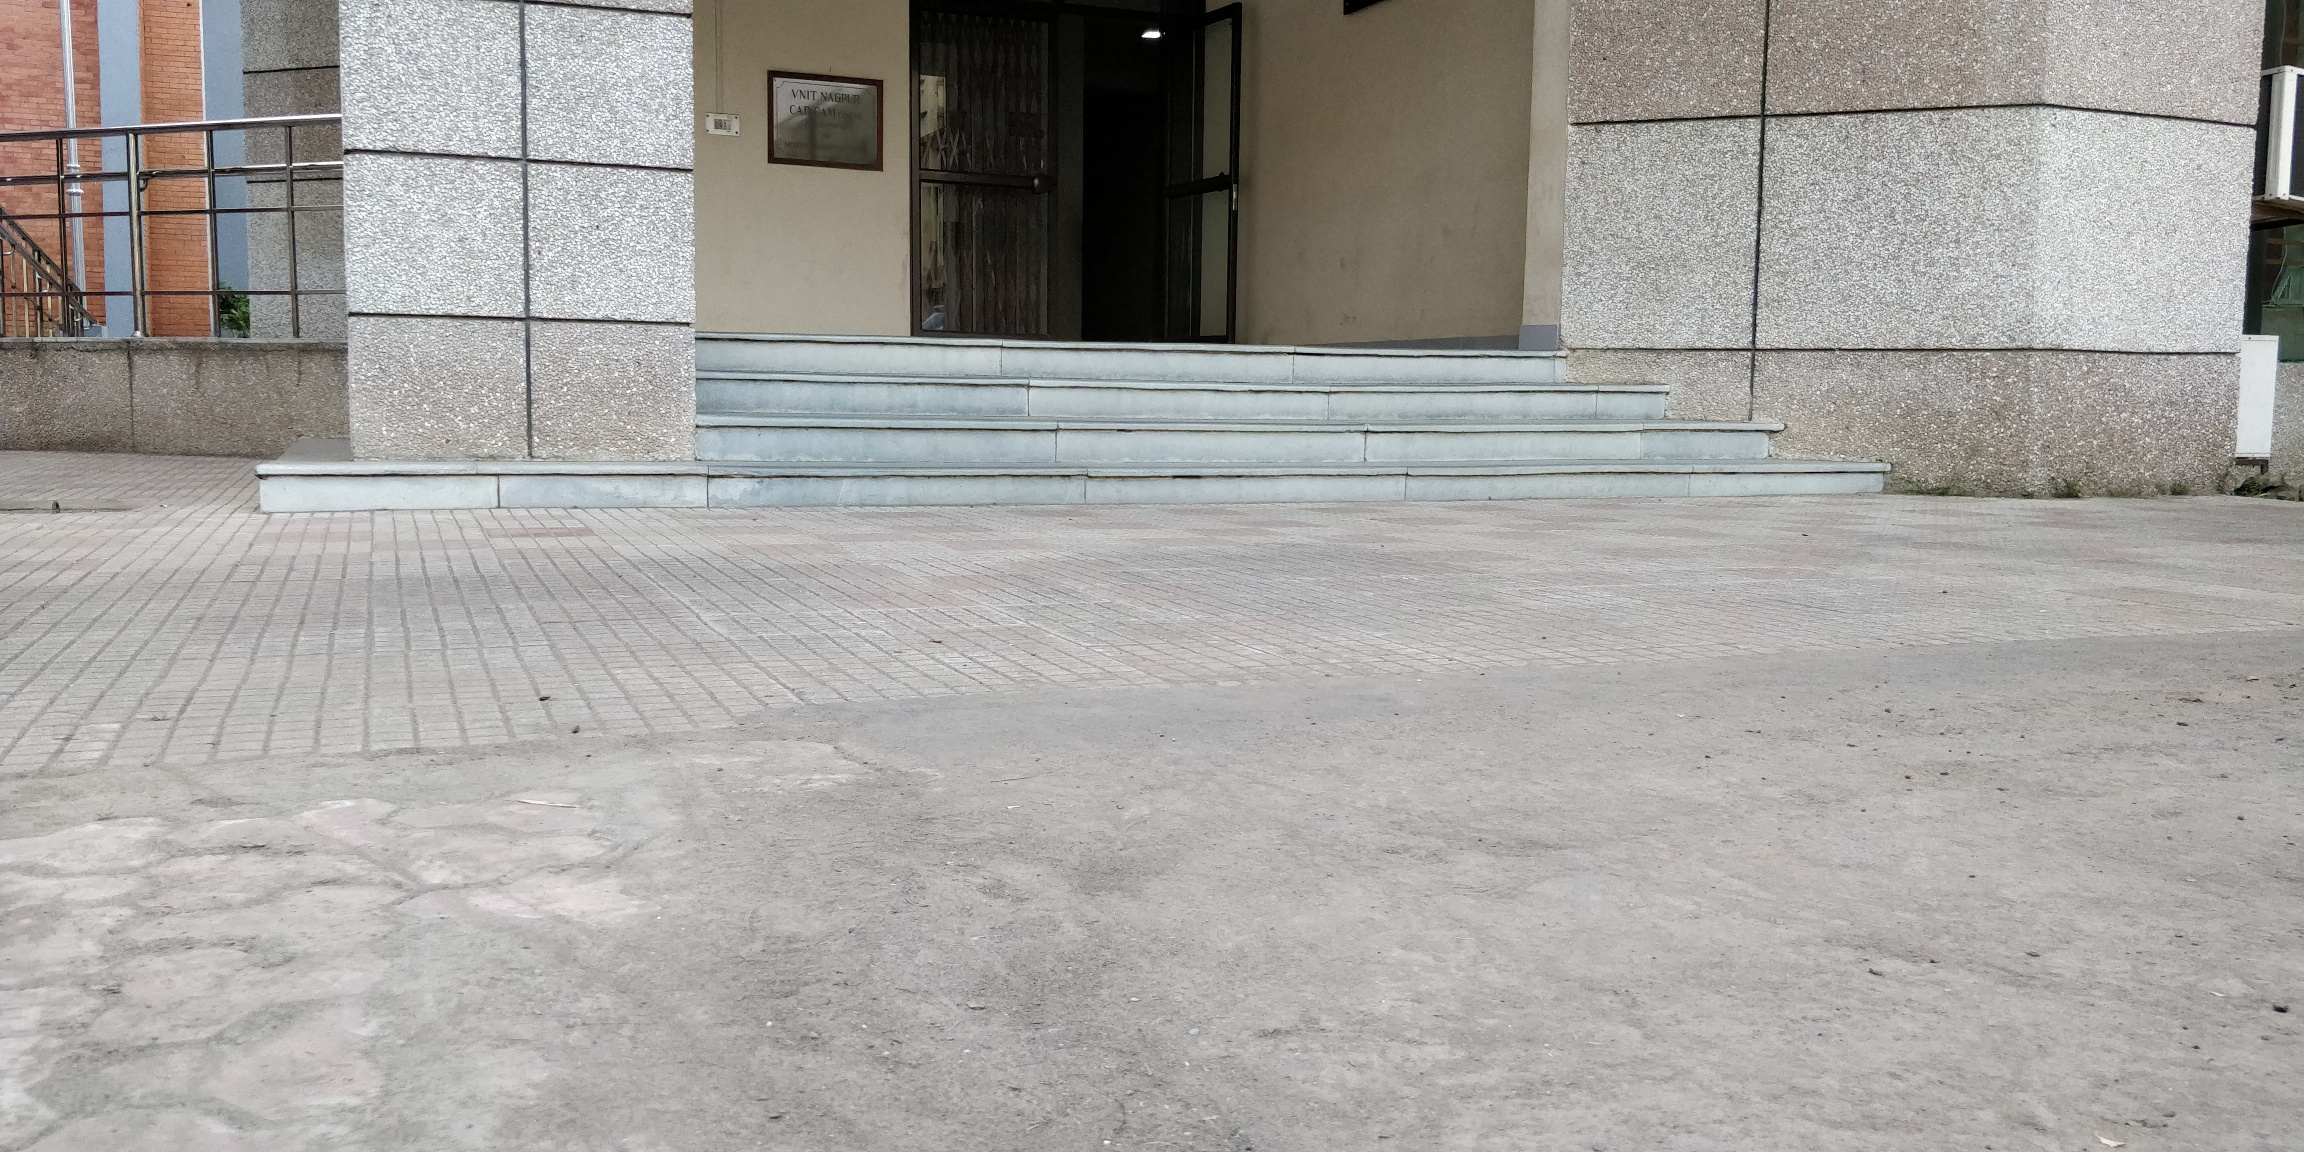stairs_up: (691, 320, 1790, 497)
